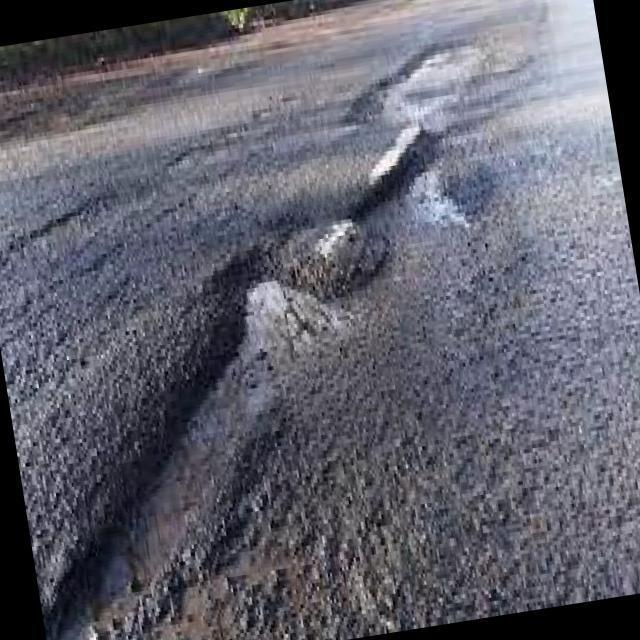pothole: (53, 281, 348, 640), (380, 46, 478, 123), (369, 170, 469, 238), (369, 161, 390, 184)
